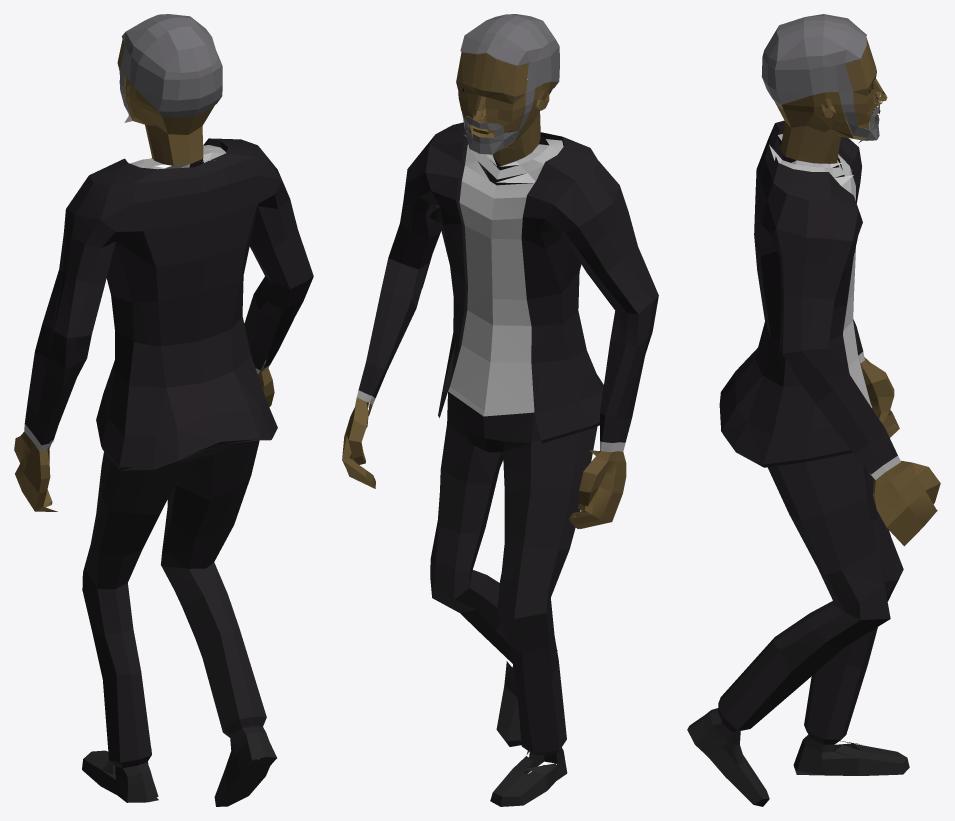
File: person_4_w2.fbx
The picture shows the model from 3 angles, left to right: view 1: azimuth 30°, elevation 25°; view 2: azimuth 150°, elevation 25°; view 3: azimuth 270°, elevation 25°; orthographic projection. The views are drawn at different scales.
Visible parts, largest first — view 1: BaseHuman; view 2: BaseHuman; view 3: BaseHuman.
Boxes of the visible parts, x1,y1,x2,y2 form: BaseHuman: (14, 14, 313, 806); BaseHuman: (342, 14, 658, 806); BaseHuman: (687, 14, 940, 806).
Bounding box in the file's own units: 0.362 × 1 × 0.2973.
